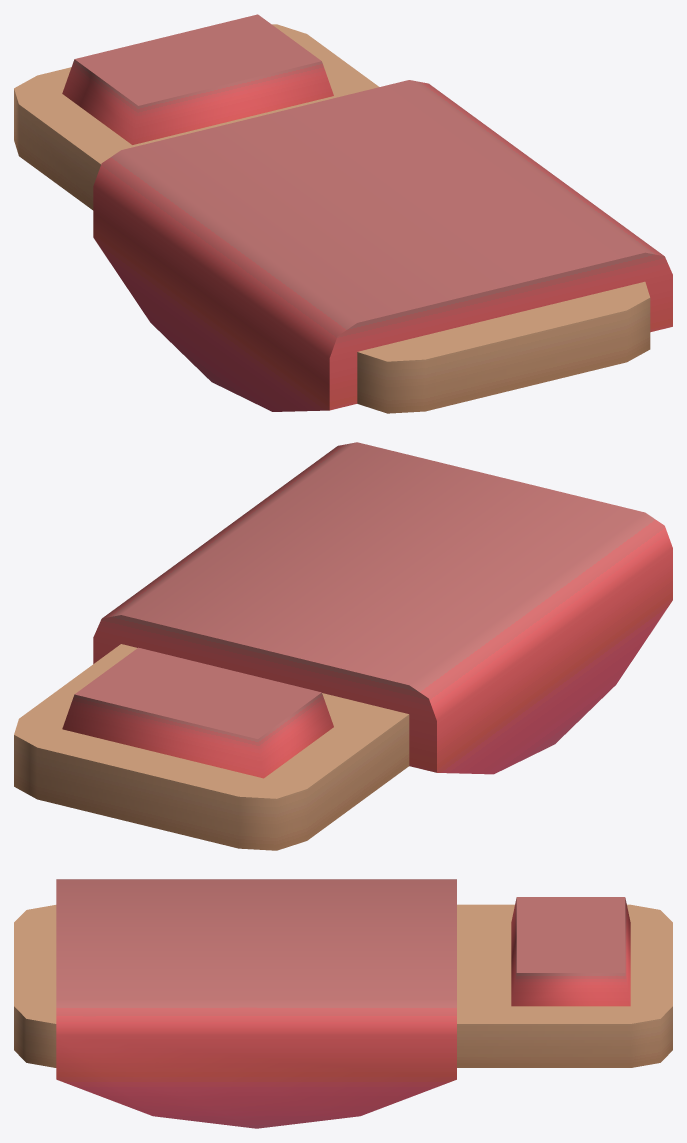
The model's file is bedroll.glb.
3 renders of one model, top to bottom at view 1: azimuth 30°, elevation 25°; view 2: azimuth 150°, elevation 25°; view 3: azimuth 270°, elevation 25°, orthographic. The views are drawn at different scales.
Parts seen in each view (by area): view 1: bedroll; view 2: bedroll; view 3: bedroll.
Boxes of the visible parts, left/top/right/bottom form: bedroll: left=14, top=14, right=672, bottom=413; bedroll: left=14, top=442, right=672, bottom=850; bedroll: left=14, top=879, right=672, bottom=1128.
Size of the model in its own units: 0.3104 by 0.1248 by 0.6076.
1 material, 1 textured.
